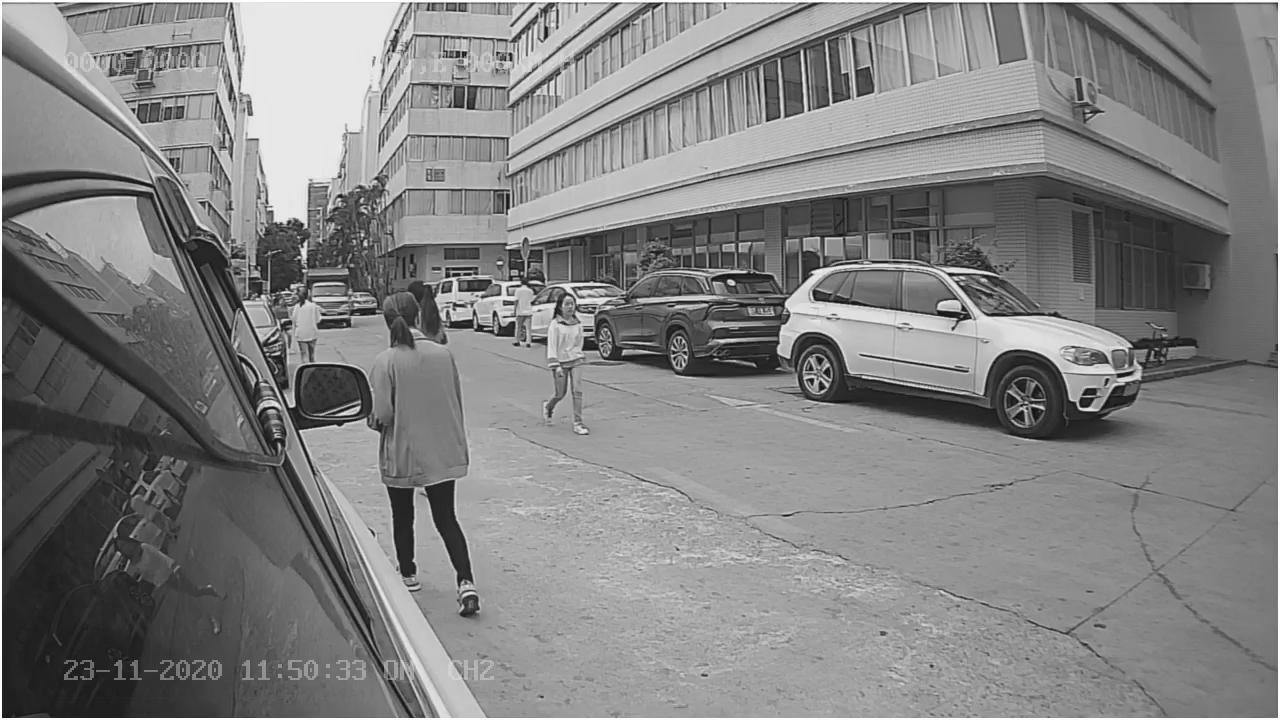person: (365, 285, 464, 439), (538, 290, 595, 436)
